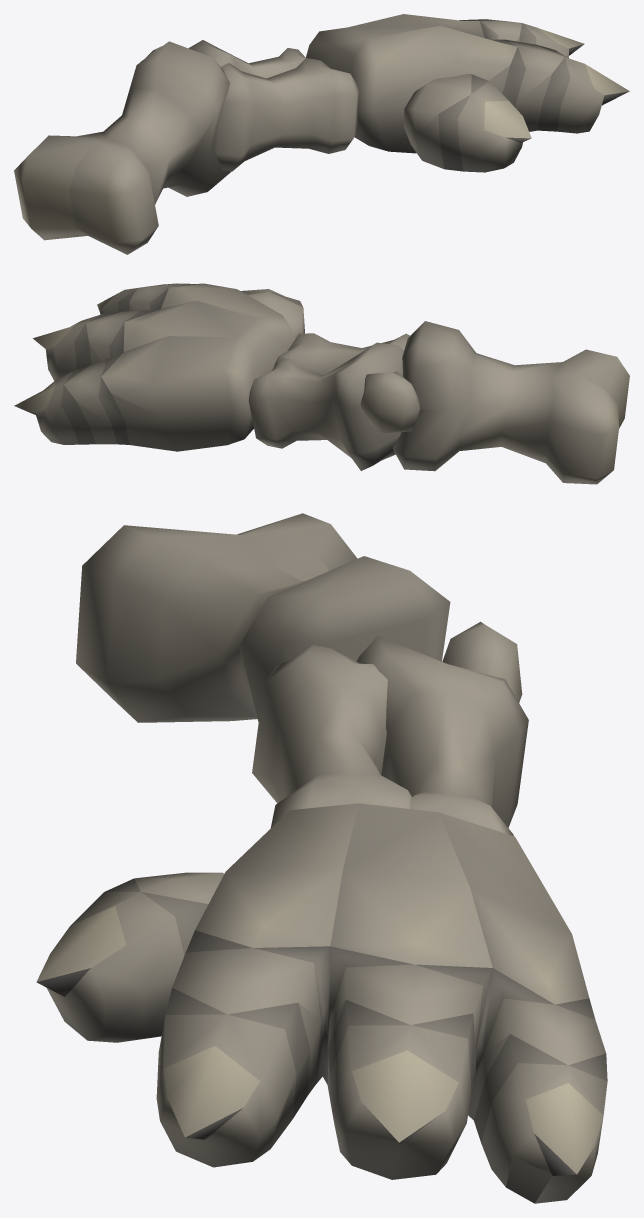
The model's file is deco_skeleton_arm.fbx.
3 views of the same model, one above another, from view 1: azimuth 30°, elevation 25°; view 2: azimuth 150°, elevation 25°; view 3: azimuth 270°, elevation 25° (orthographic). The views are drawn at different scales.
Parts seen in each view (by area): view 1: deco_skeleton_arm; view 2: deco_skeleton_arm; view 3: deco_skeleton_arm.
Part boxes in pixels (box(x1,y1,x2,y2)): deco_skeleton_arm: box(14, 14, 629, 254); deco_skeleton_arm: box(14, 283, 629, 484); deco_skeleton_arm: box(36, 513, 607, 1203).
Size of the model in its own units: 100 by 26.44 by 44.45.
